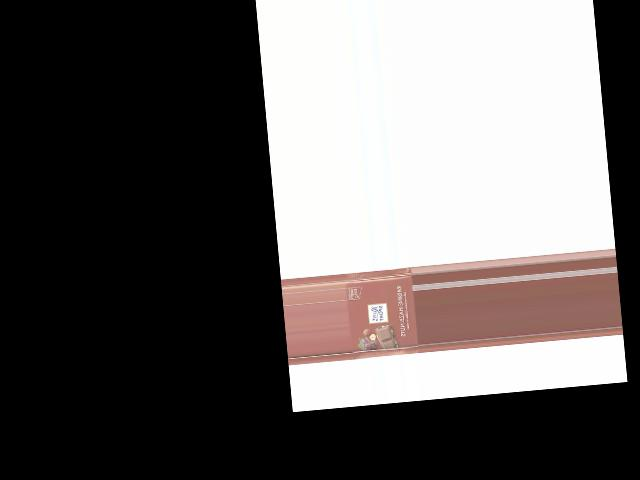chocolate: (344, 267, 419, 361)
